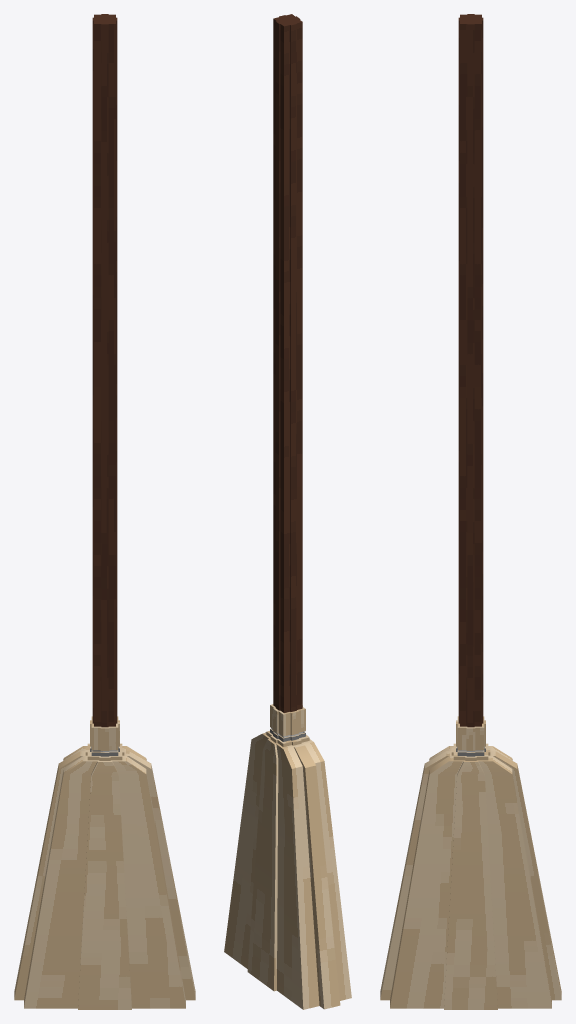
The model's file is Broom.fbx.
3 renders of one model, left to right at view 1: azimuth 90°, elevation 25°; view 2: azimuth 210°, elevation 25°; view 3: azimuth 270°, elevation 25°, orthographic. The views are drawn at different scales.
Parts seen in each view (by area): view 1: Broom; view 2: Broom; view 3: Broom.
Part boxes in pixels (x1,y1,x2,y2): Broom: [14, 14, 195, 1009]; Broom: [224, 14, 351, 1009]; Broom: [380, 14, 561, 1009].
Size of the model in its own units: 5.82 by 97.59 by 16.44.
1 material, 1 textured.
